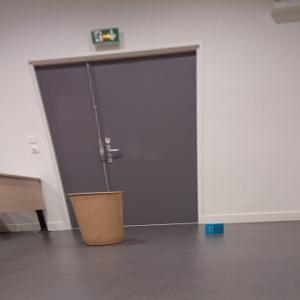medium: (68, 191, 124, 245)
small: (205, 222, 224, 234)
